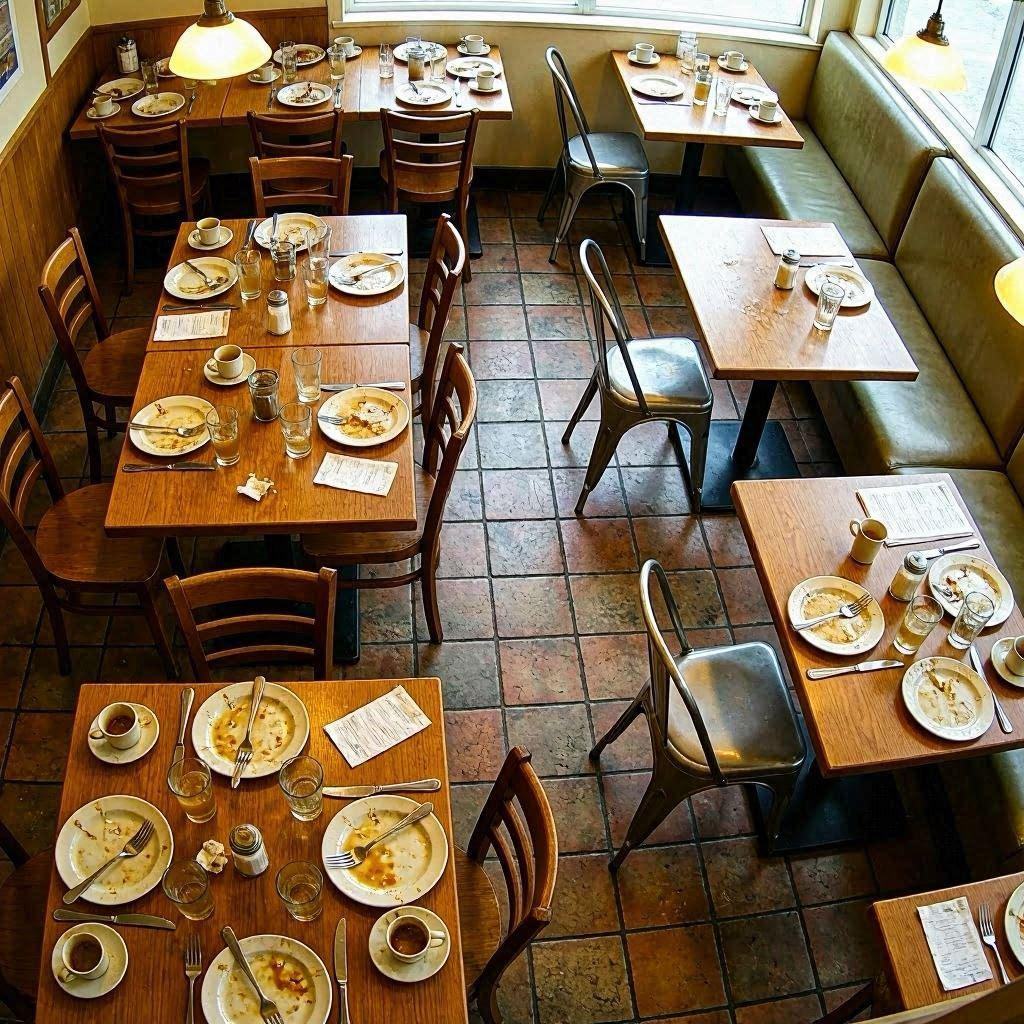dirty: (50, 683, 459, 1019), (119, 198, 401, 522), (751, 463, 1024, 756), (99, 19, 510, 126), (673, 202, 908, 378), (616, 28, 814, 142)
